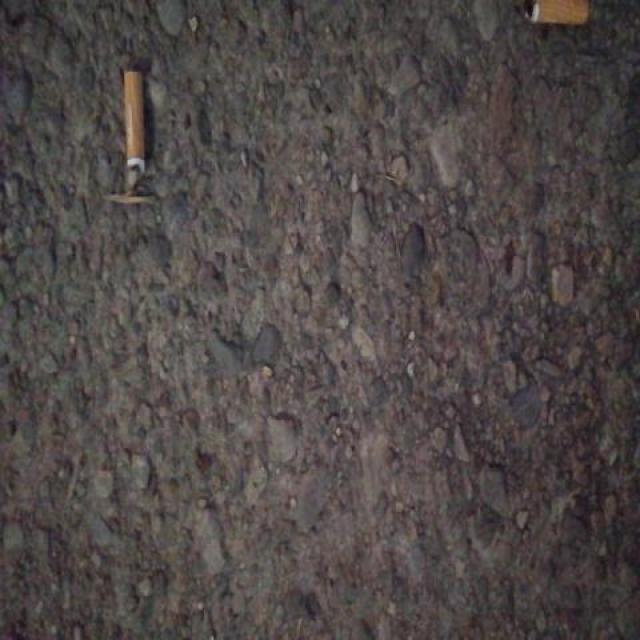non-organic waste: (120, 67, 149, 196), (520, 1, 593, 30)
